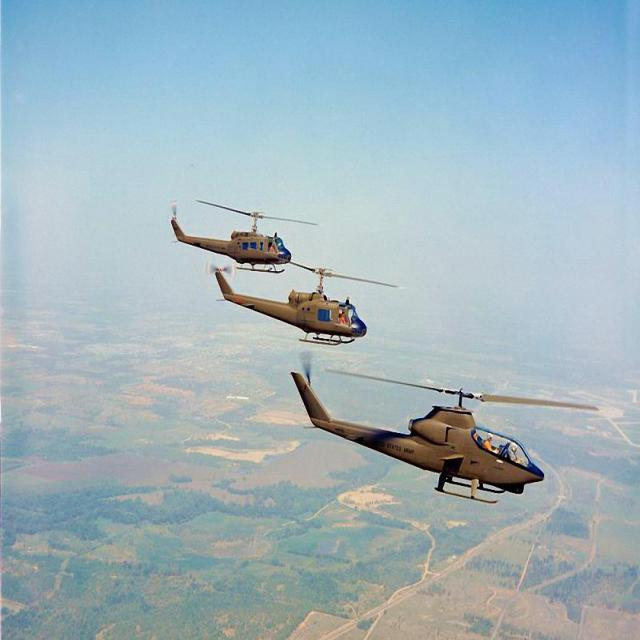MIL_HELO: (283, 353, 592, 508), (211, 245, 405, 350), (164, 193, 323, 280)
